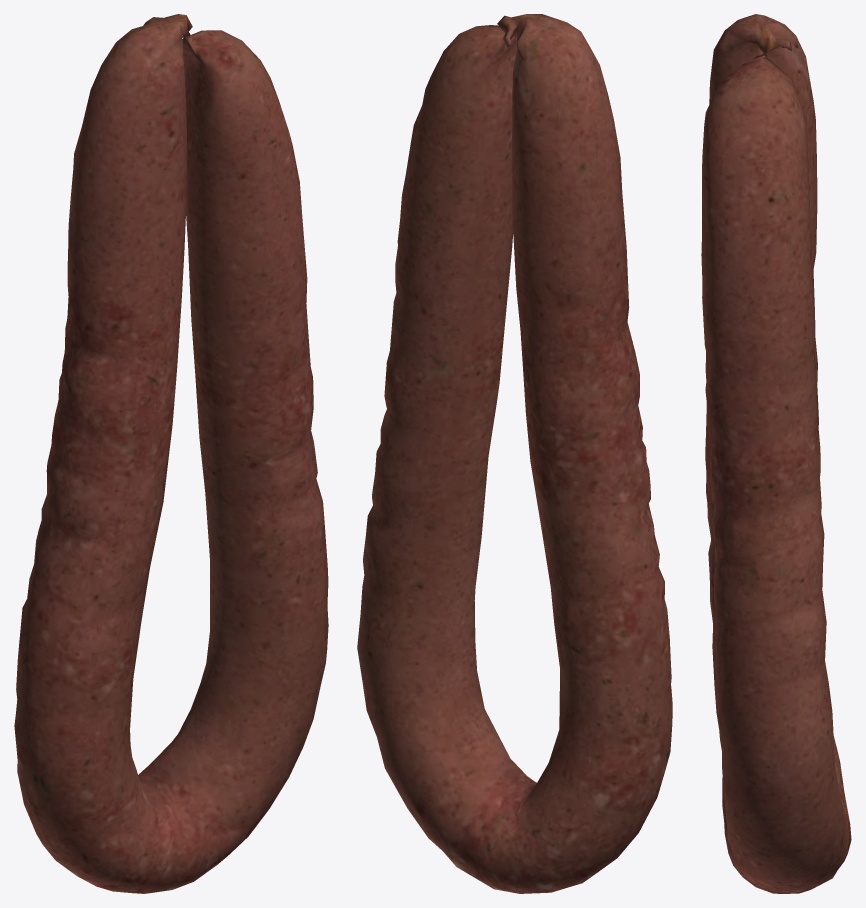
The model's file is sausage_a.glb.
3 renders of one model, left to right at view 1: azimuth 30°, elevation 25°; view 2: azimuth 150°, elevation 25°; view 3: azimuth 270°, elevation 25°, orthographic.
Visible parts, largest first — view 1: wenkejdaa_LOD0_TIER2_000; view 2: wenkejdaa_LOD0_TIER2_000; view 3: wenkejdaa_LOD0_TIER2_000.
Part boxes in pixels (x1=…): wenkejdaa_LOD0_TIER2_000: x1=14, y1=14, x2=328, y2=893; wenkejdaa_LOD0_TIER2_000: x1=357, y1=14, x2=672, y2=893; wenkejdaa_LOD0_TIER2_000: x1=701, y1=14, x2=851, y2=893.
Bounding box in the file's own units: 0.1128 × 0.3121 × 0.0494.
Materials: 1 (1 with a texture image).
